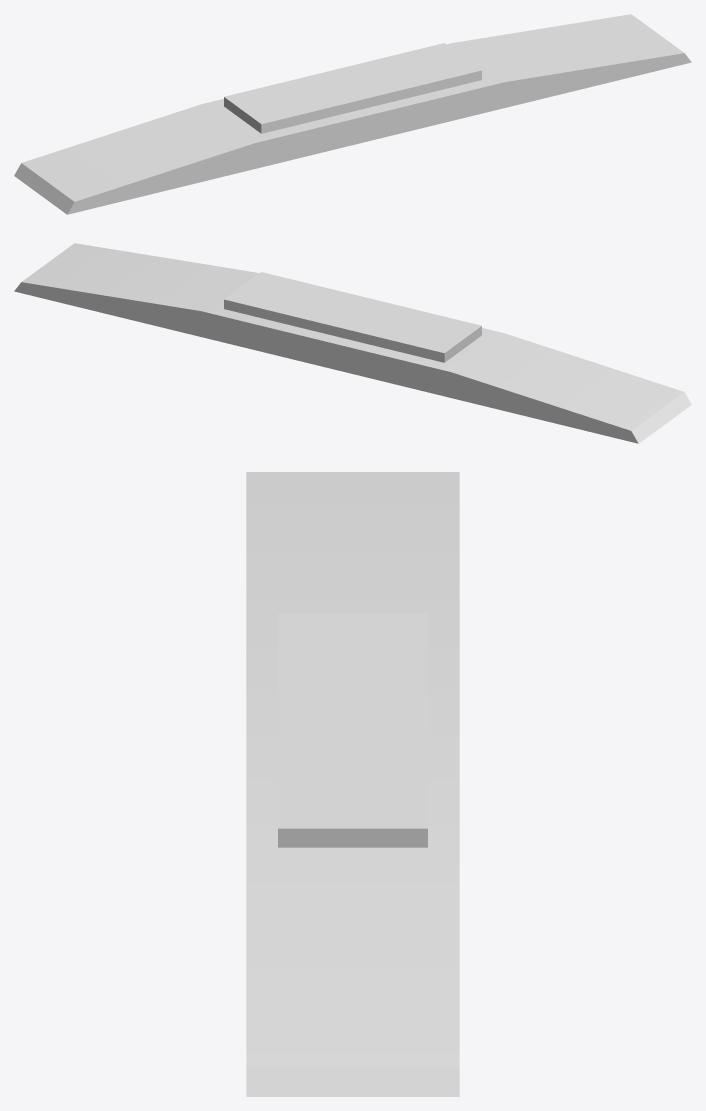
File: Itr_Obj_Monitor_LCD_Base_04.FBX
3 renders of one model, top to bottom at view 1: azimuth 30°, elevation 25°; view 2: azimuth 150°, elevation 25°; view 3: azimuth 270°, elevation 25°, orthographic. The views are drawn at different scales.
Parts seen in each view (by area): view 1: Itr_Obj_Monitor_LCD_Base_04; view 2: Itr_Obj_Monitor_LCD_Base_04; view 3: Itr_Obj_Monitor_LCD_Base_04.
Boxes of the visible parts, <box> form: Itr_Obj_Monitor_LCD_Base_04: <box>14,14,691,214</box>; Itr_Obj_Monitor_LCD_Base_04: <box>14,243,691,443</box>; Itr_Obj_Monitor_LCD_Base_04: <box>246,472,459,1096</box>.
Bounding box in the file's own units: 38.49 × 2.09 × 5.68.
